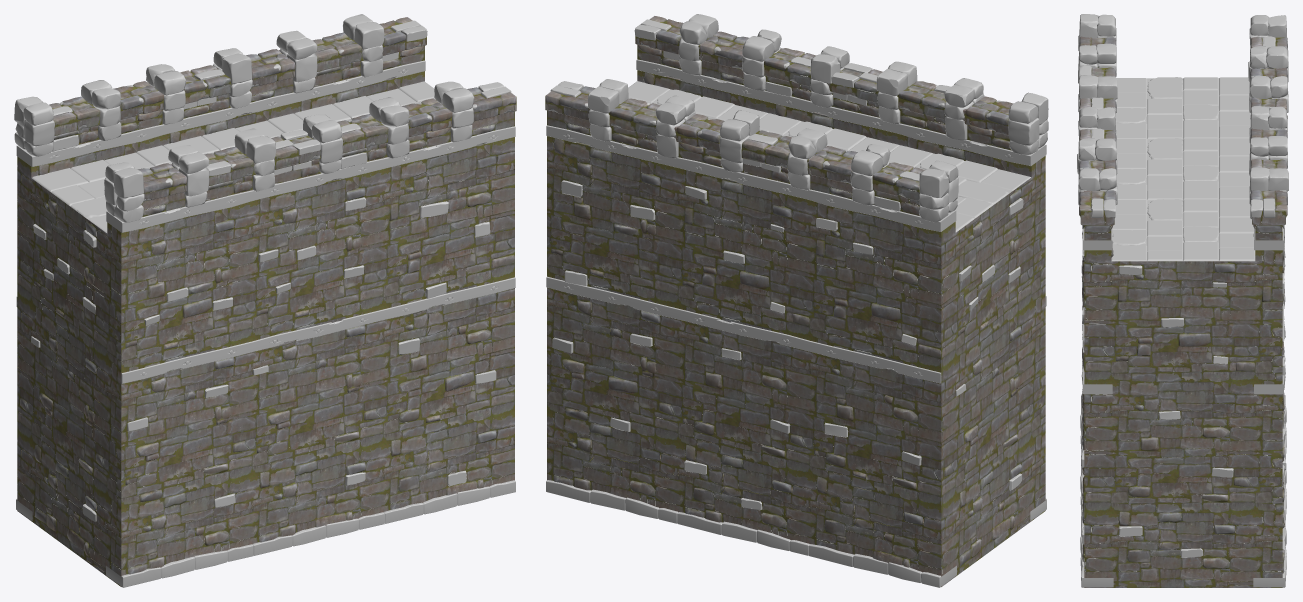
3 views of the same model, side by side, from view 1: azimuth 30°, elevation 25°; view 2: azimuth 150°, elevation 25°; view 3: azimuth 270°, elevation 25° (orthographic). The views are drawn at different scales.
Parts seen in each view (by area): view 1: SM_Castle_Wall_4x12_01_v6_LOD0; view 2: SM_Castle_Wall_4x12_01_v6_LOD0; view 3: SM_Castle_Wall_4x12_01_v6_LOD0.
Part boxes in pixels (x1,y1,x2,y2): SM_Castle_Wall_4x12_01_v6_LOD0: (14, 14, 516, 587); SM_Castle_Wall_4x12_01_v6_LOD0: (545, 14, 1048, 587); SM_Castle_Wall_4x12_01_v6_LOD0: (1077, 14, 1288, 587).
Bounding box in the file's own units: 12.2 × 12 × 5.88.
